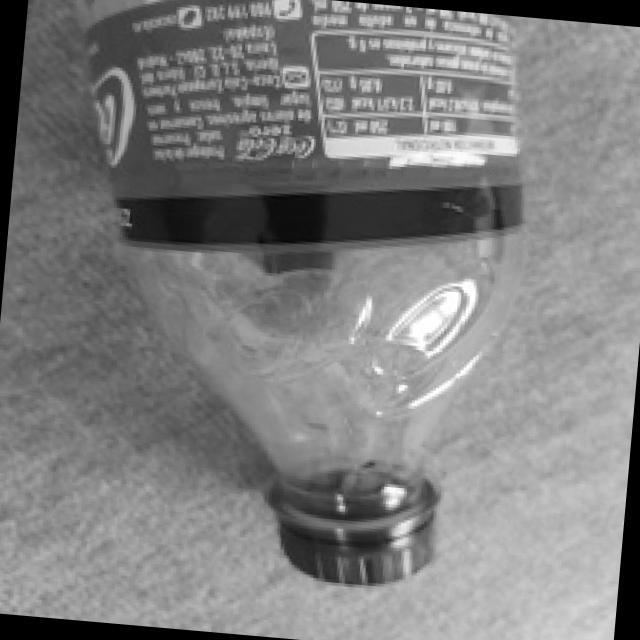good: (22, 0, 540, 606)
